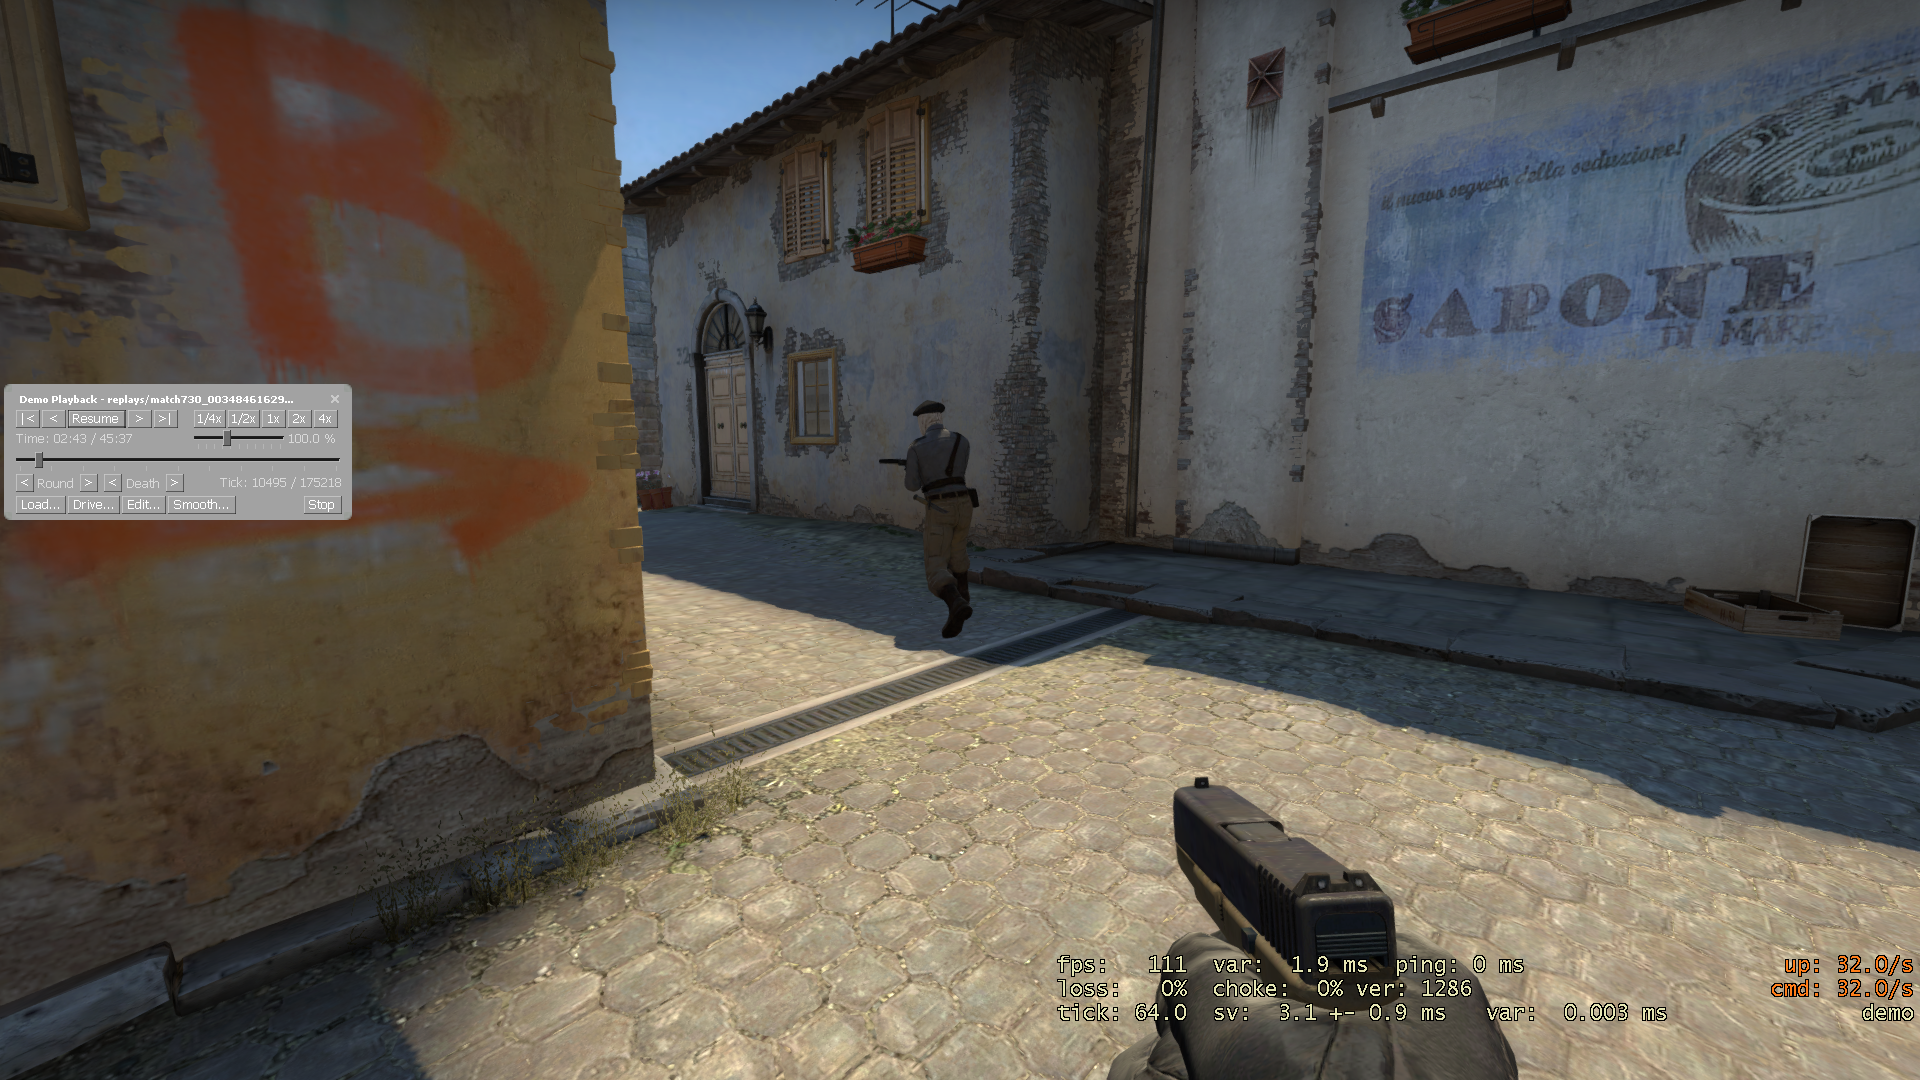t: (902, 401, 975, 640)
